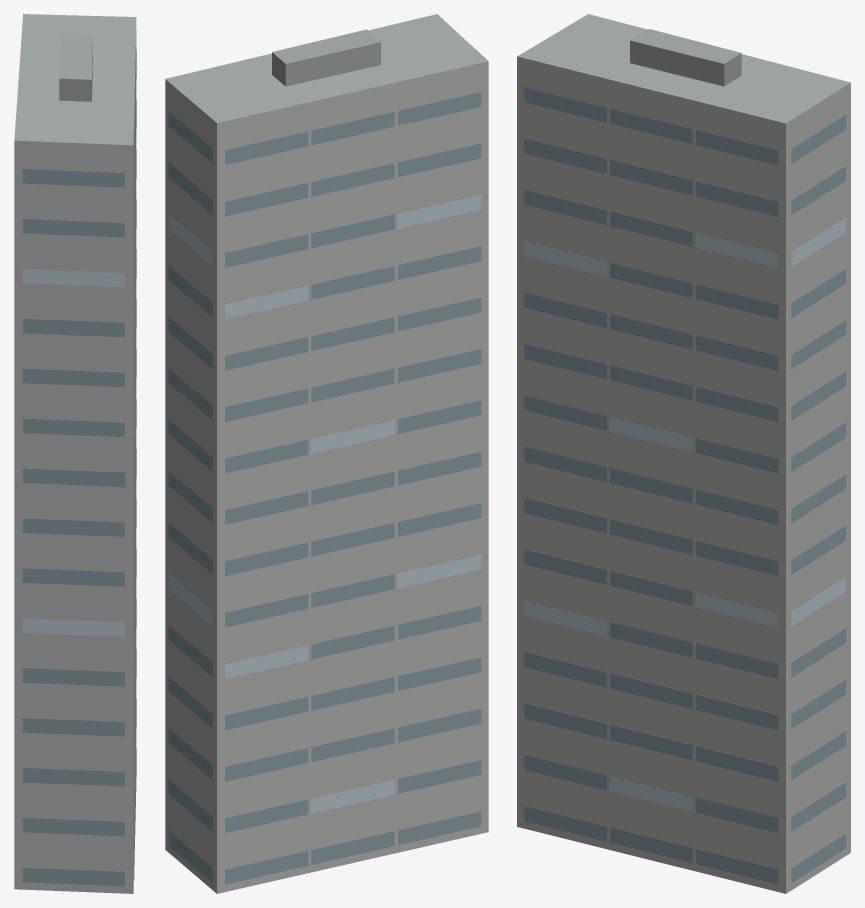
File: fallback-jamsil-parkrio-223.glb
The picture shows the model from 3 angles, left to right: view 1: azimuth 30°, elevation 25°; view 2: azimuth 150°, elevation 25°; view 3: azimuth 270°, elevation 25°; orthographic projection. The views are drawn at different scales.
Parts seen in each view (by area): view 1: fallback-jamsil-parkrio-223; view 2: fallback-jamsil-parkrio-223; view 3: fallback-jamsil-parkrio-223.
Part boxes in pixels (bbox=[...]): fallback-jamsil-parkrio-223: bbox=[14, 14, 136, 893]; fallback-jamsil-parkrio-223: bbox=[165, 14, 488, 893]; fallback-jamsil-parkrio-223: bbox=[517, 14, 850, 893].
Bounding box in the file's own units: 24.89 × 84 × 32.04.
